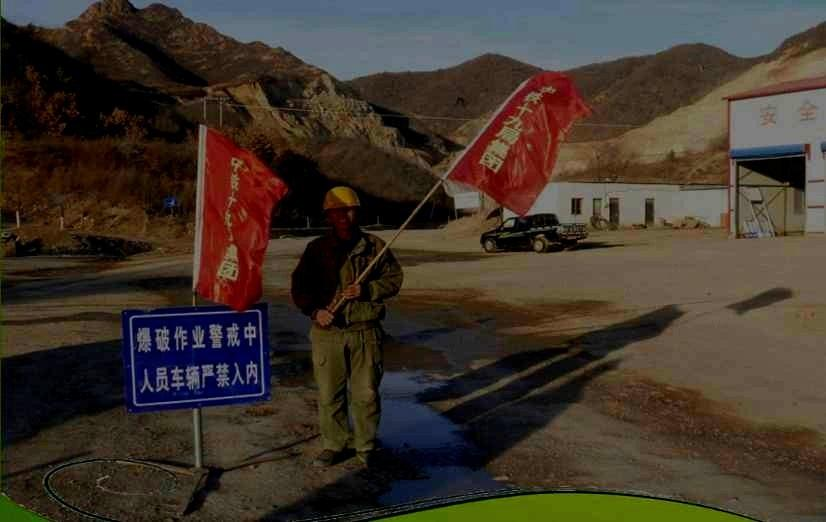helmet: (322, 186, 361, 230)
